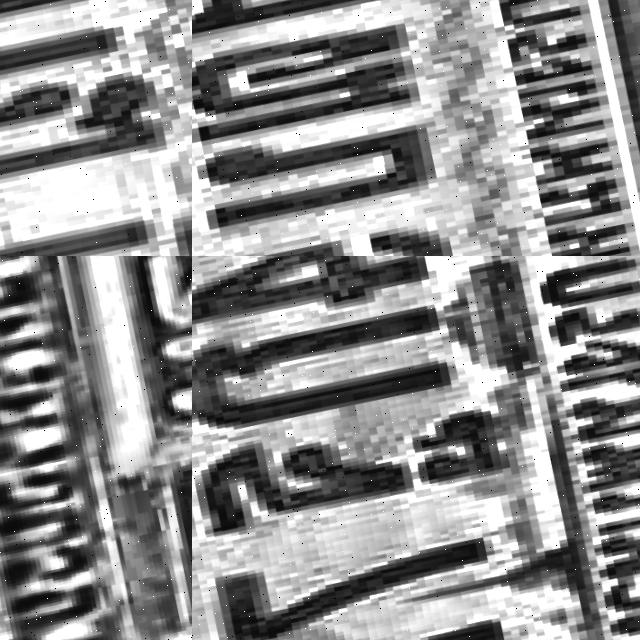license-plate: (192, 256, 640, 640), (192, 0, 640, 256), (0, 256, 168, 640), (0, 0, 192, 256)
